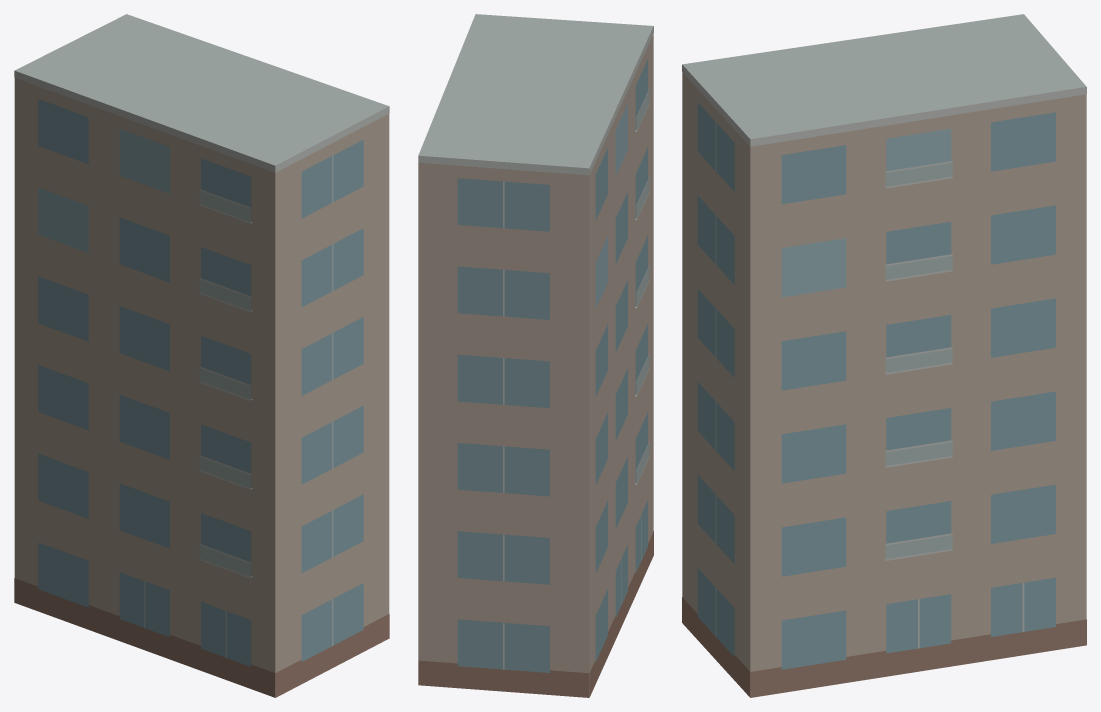
The model's file is survey-upis-32974452.glb.
3 views of the same model, side by side, from view 1: azimuth 30°, elevation 25°; view 2: azimuth 150°, elevation 25°; view 3: azimuth 270°, elevation 25° (orthographic). The views are drawn at different scales.
Parts seen in each view (by area): view 1: survey-upis-32974452.tmp; view 2: survey-upis-32974452.tmp; view 3: survey-upis-32974452.tmp.
Part boxes in pixels (box(x1,y1,x2,y2)): survey-upis-32974452.tmp: box(14, 14, 389, 697); survey-upis-32974452.tmp: box(418, 14, 653, 697); survey-upis-32974452.tmp: box(682, 14, 1086, 697).
Size of the model in its own units: 8.82 by 18.3 by 12.03.
